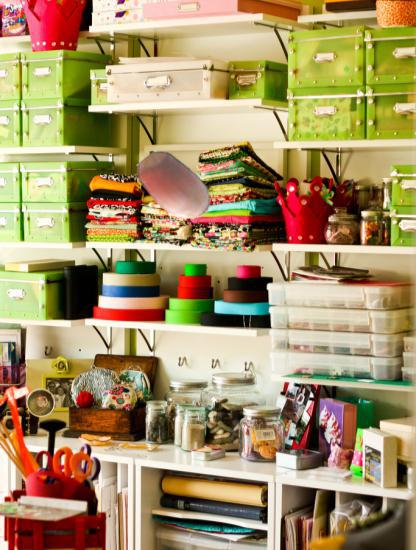Hazelnut: (135, 145, 218, 228)
